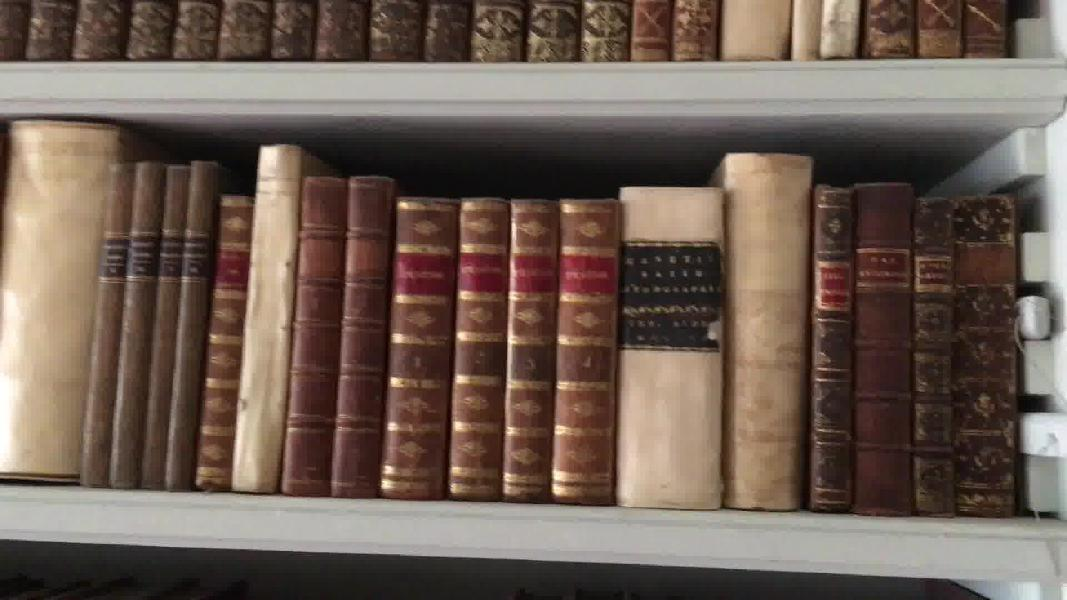Kk4-14: (1, 117, 120, 484)
Kk4-15_16: (77, 155, 164, 490)
Kk4-17_18: (138, 154, 214, 486)
Kk4-19: (191, 191, 254, 493)
Kk4-20: (228, 135, 299, 493)
Kk4-21_22: (274, 172, 392, 500)
Kk4-23_26: (383, 186, 619, 500)
Kk4-27: (614, 176, 729, 511)
Kk4-28: (718, 150, 811, 516)
Kk4-29: (810, 181, 855, 512)
Kk4-30: (854, 181, 913, 517)
Kk4-31: (910, 193, 956, 518)
Kk4-32: (954, 190, 1022, 522)
